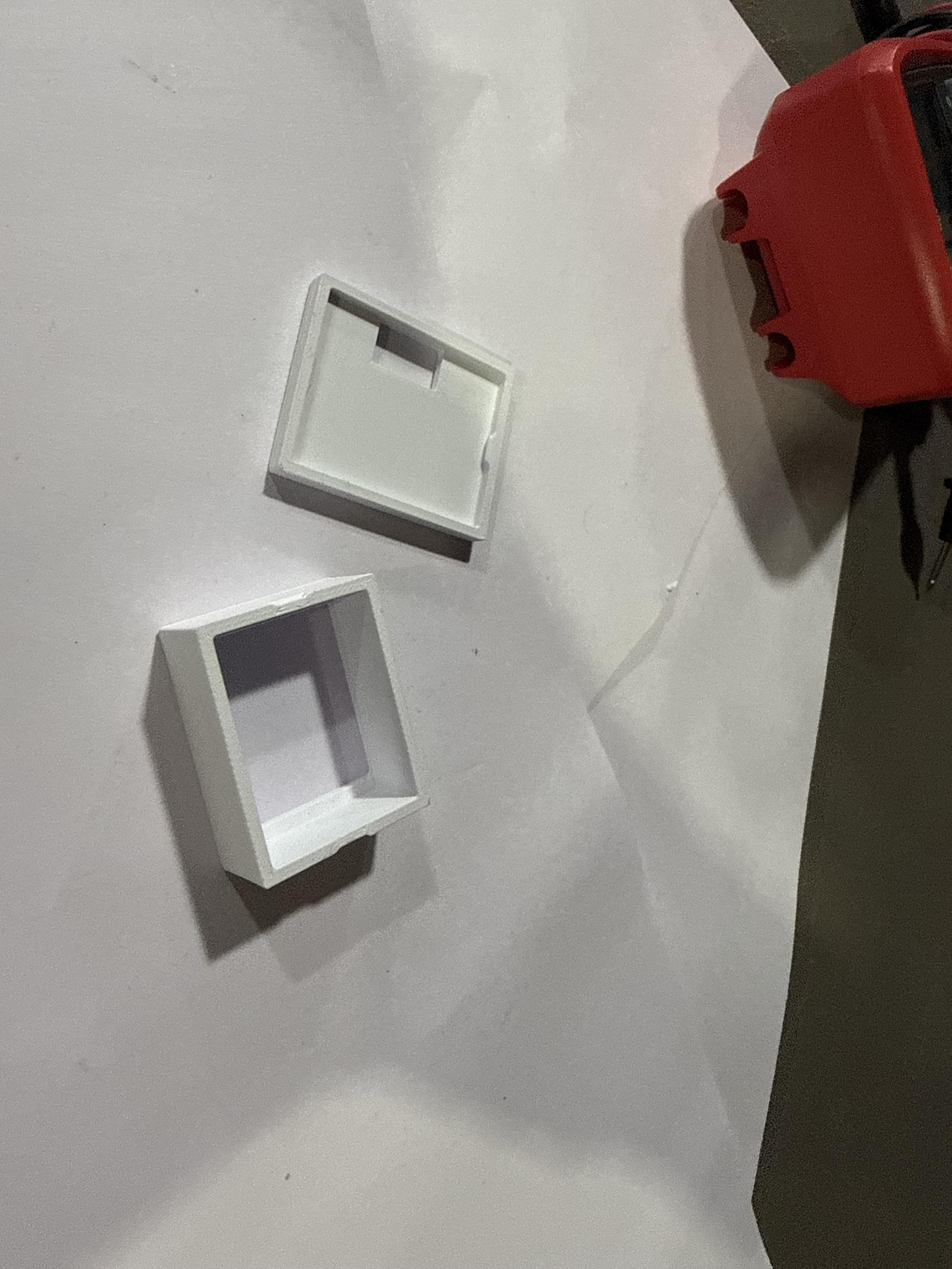enclosure: (156, 573, 431, 890), (265, 271, 519, 542)
